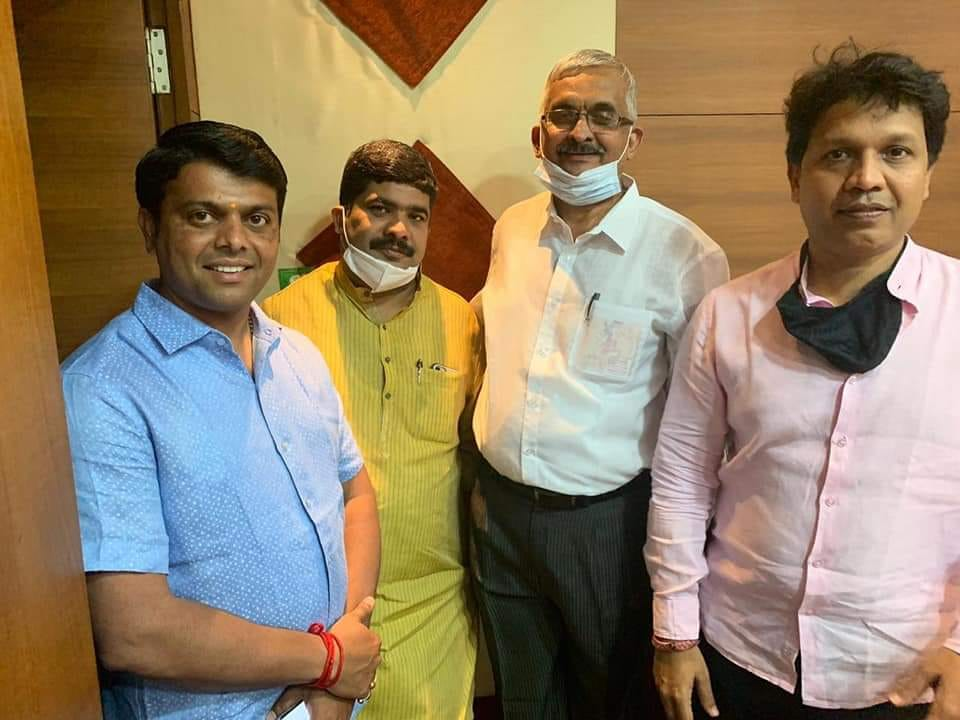mouth: (838, 200, 892, 227), (202, 257, 255, 282), (372, 245, 413, 260), (562, 150, 599, 164)
nose: (842, 174, 886, 194), (215, 236, 248, 253), (383, 225, 408, 240), (566, 131, 593, 144)
